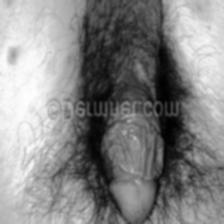Toxin: (99, 120, 164, 180)
